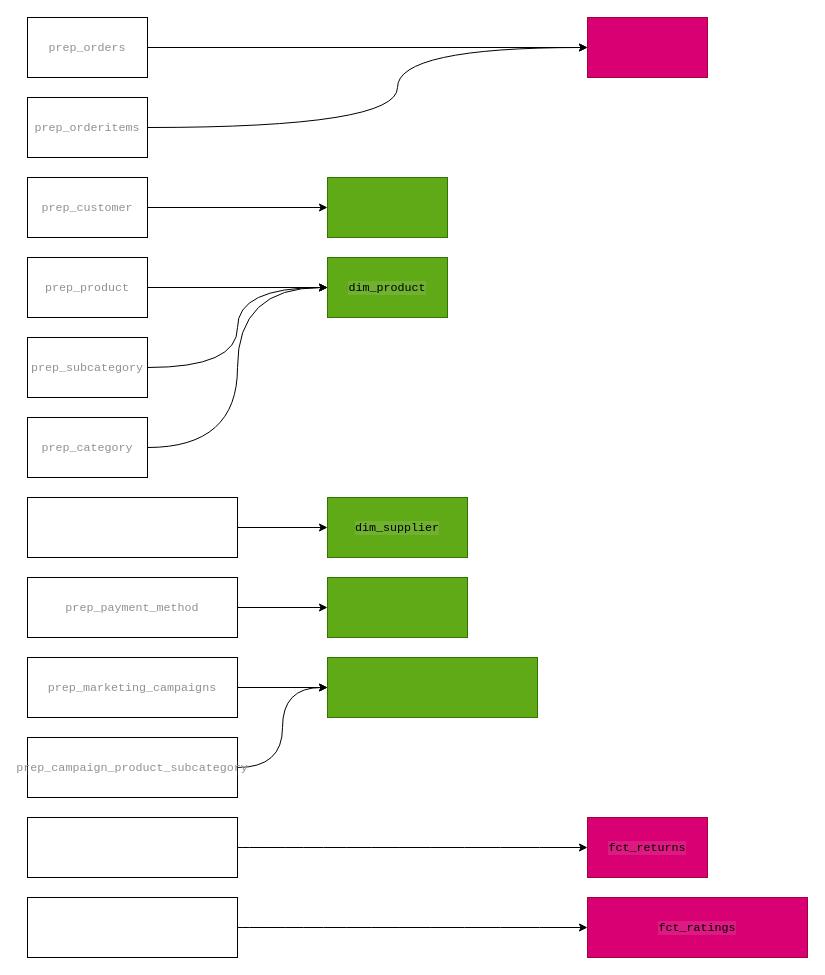
Image size: 825x975. Some labels were removed from this diagram. The shapes that lost their labels are listed below. From the top down, each one's centre as x and y in pixels, then its label:
At point (647, 47): "fct_order_items".
At point (387, 207): "dim_customer".
At point (132, 527): "prep_supplier".
At point (397, 607): "dim_payment_method".
At point (432, 687): "dim_marketing_campaign".
At point (132, 847): "prep_returns".
At point (132, 927): "prep_customer_product_ratings".
